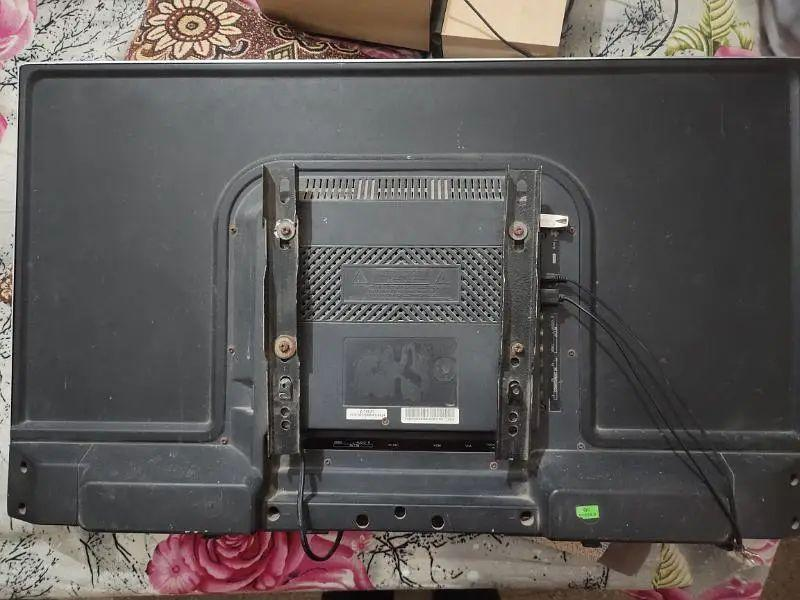electronic: (3, 49, 800, 555)
